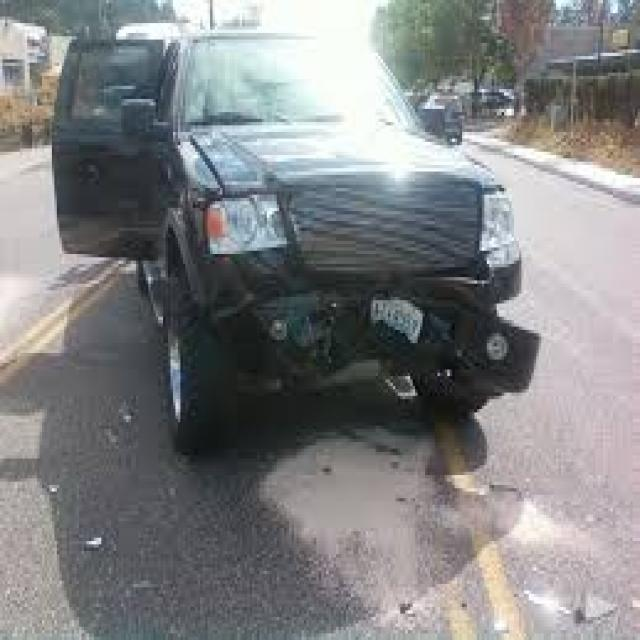moderate: (193, 232, 534, 421)
